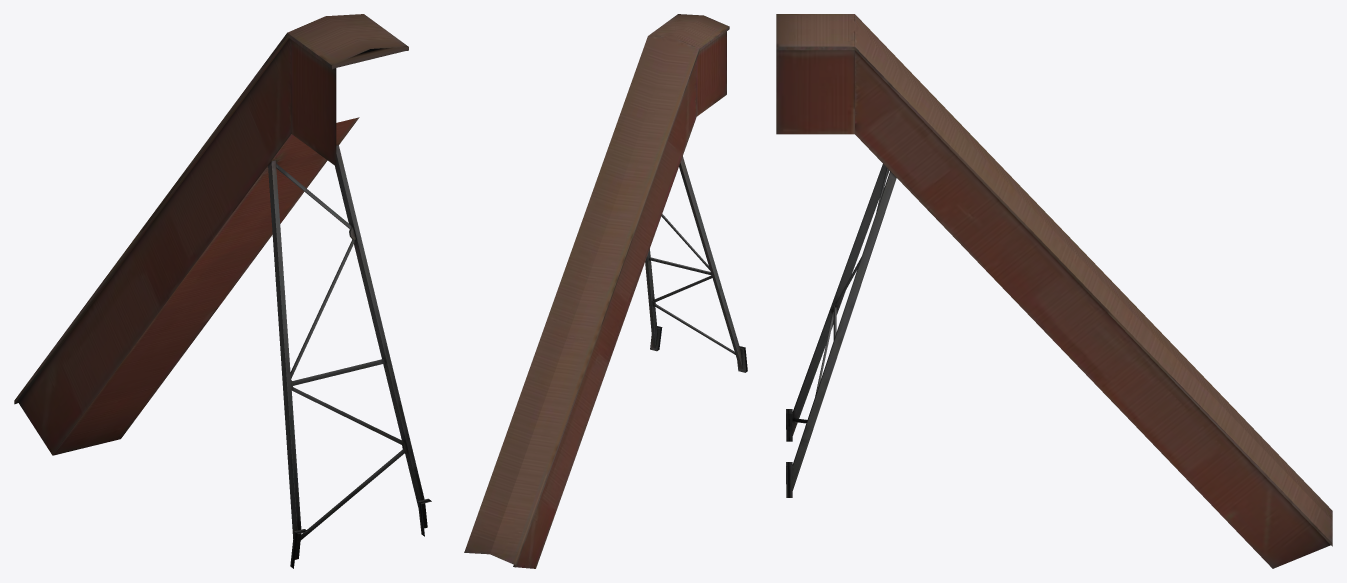
3 views of the same model, side by side, from view 1: azimuth 30°, elevation 25°; view 2: azimuth 150°, elevation 25°; view 3: azimuth 270°, elevation 25° (orthographic). The views are drawn at different scales.
Visible parts, largest first — view 1: body0_model0_lod0_mesh0; view 2: body0_model0_lod0_mesh0; view 3: body0_model0_lod0_mesh0.
Part boxes in pixels (box(x1,y1,x2,y2)): body0_model0_lod0_mesh0: box(14, 14, 431, 568); body0_model0_lod0_mesh0: box(464, 14, 747, 568); body0_model0_lod0_mesh0: box(776, 14, 1332, 568).
Size of the model in its own units: 133 by 543 by 516.
1 material, 1 textured.
